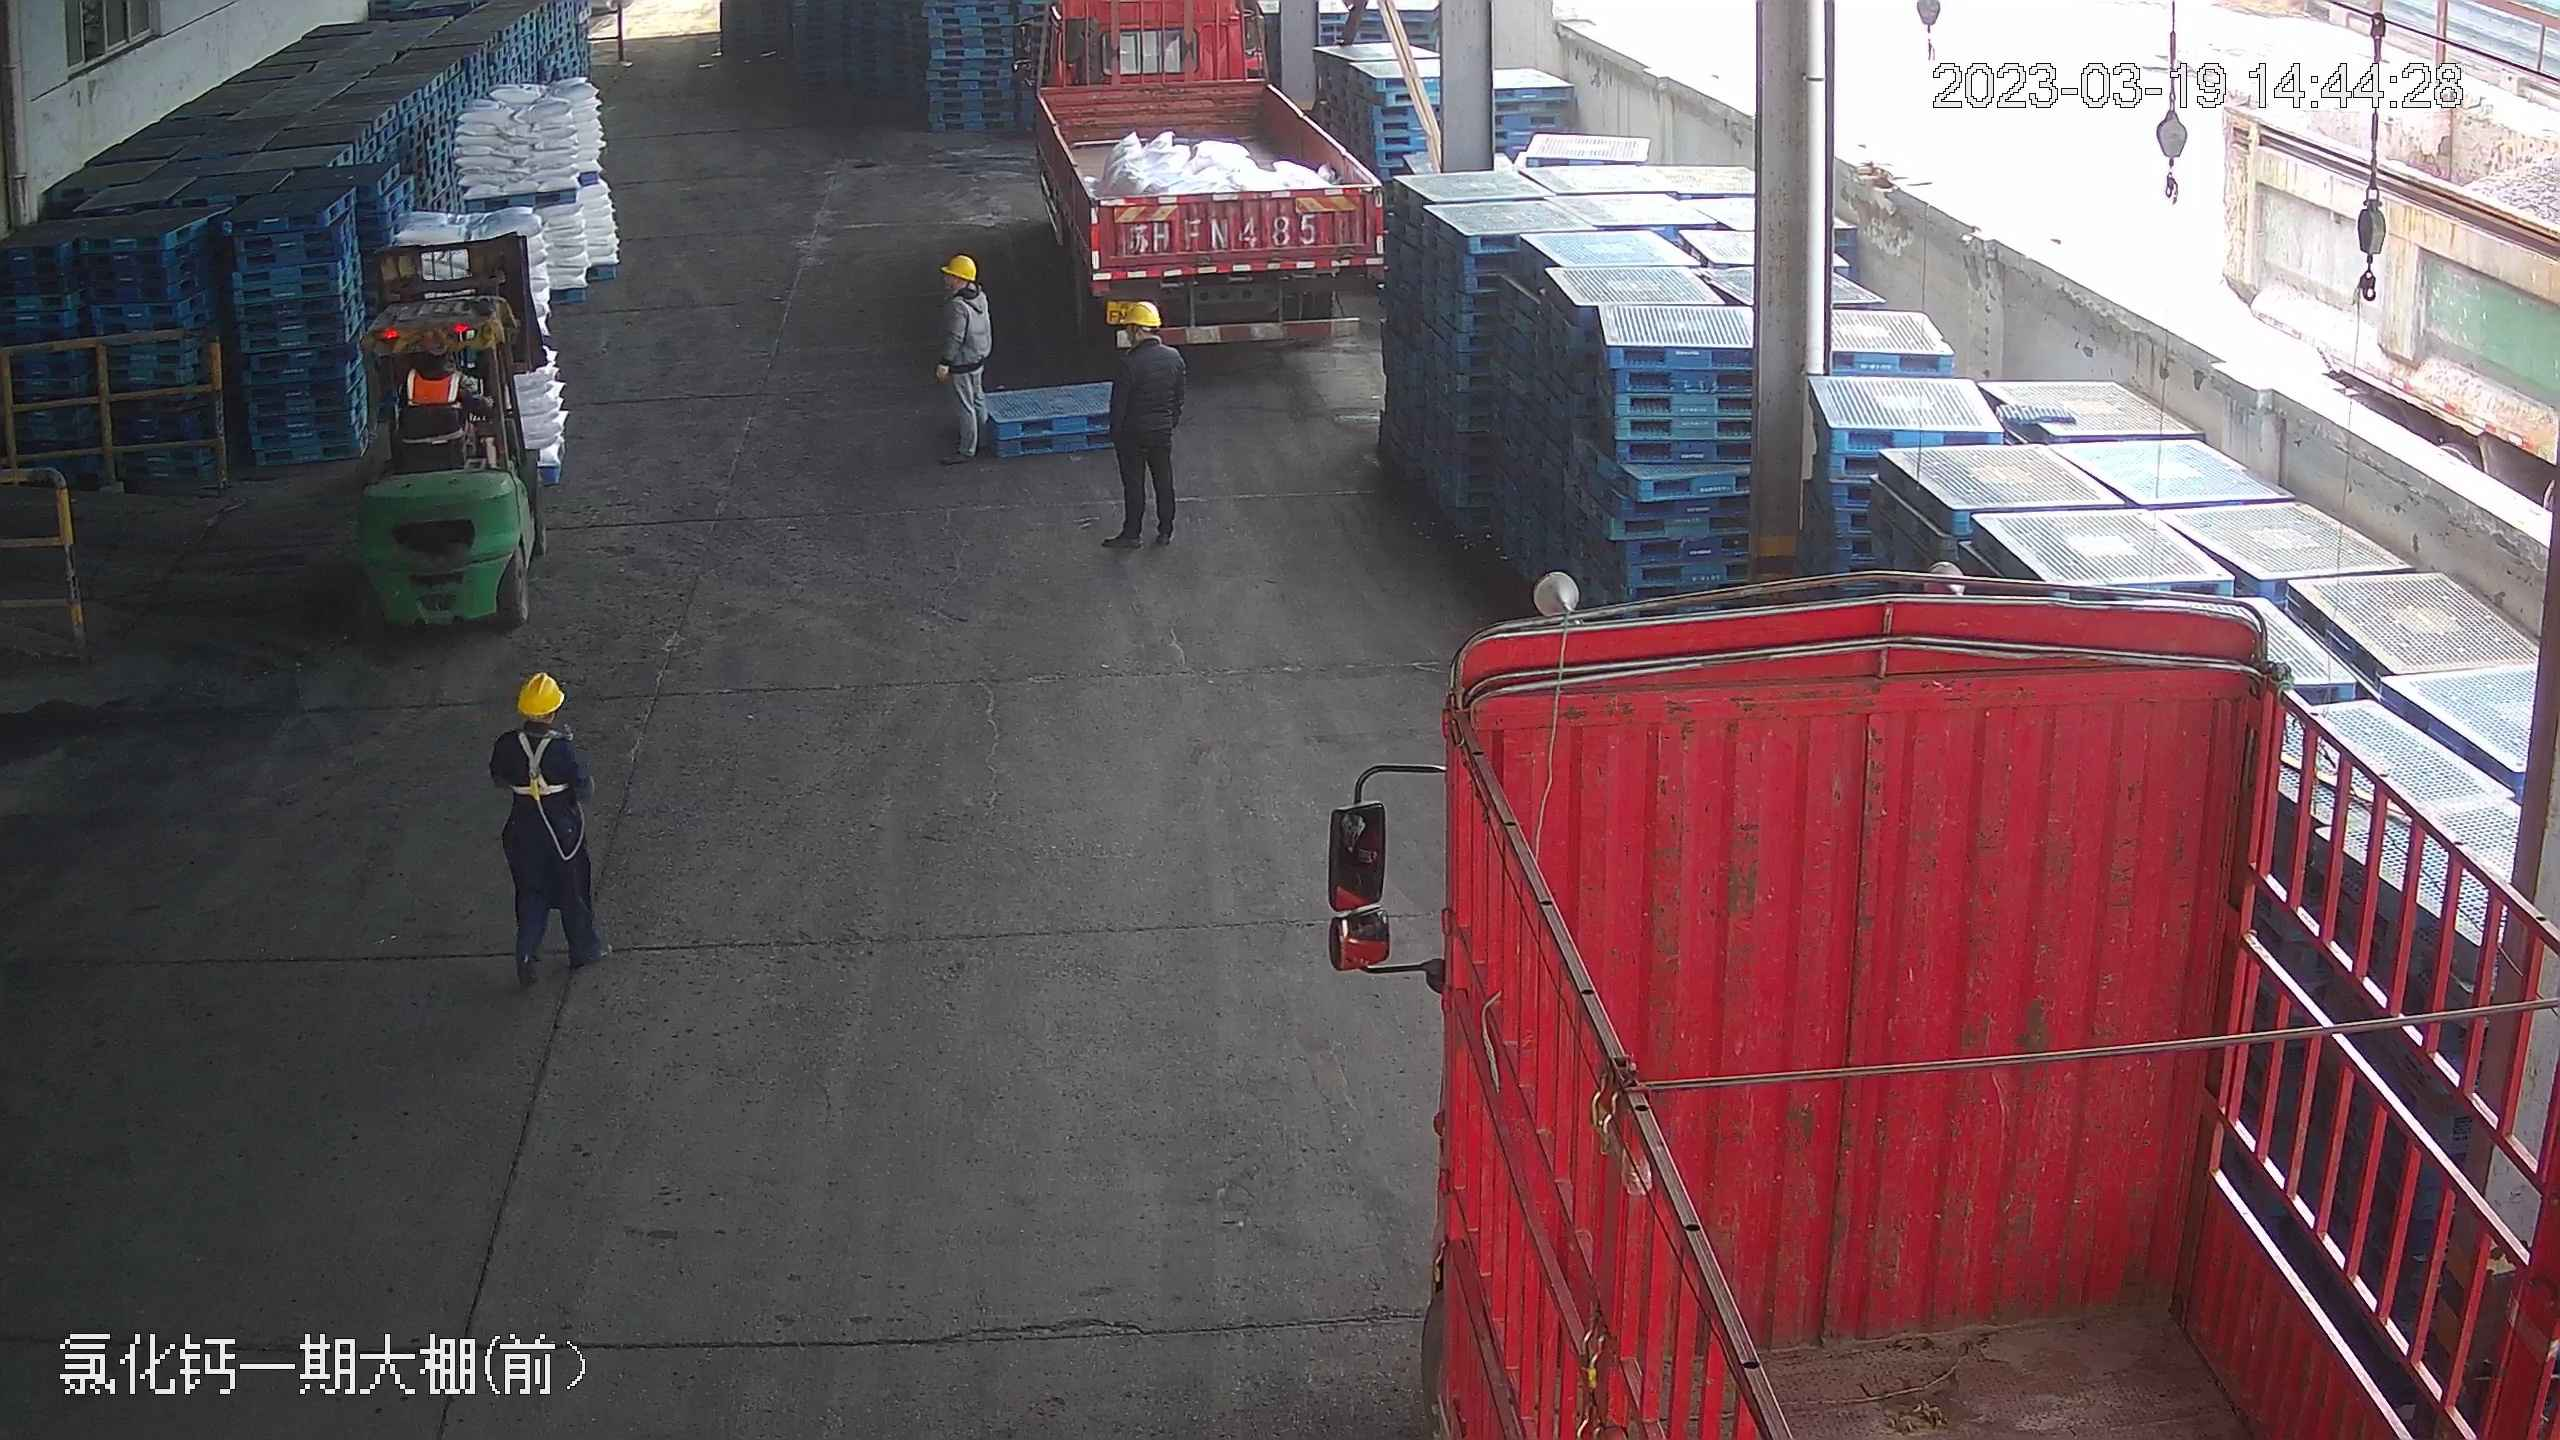belt: (503, 726, 572, 798)
head: (490, 670, 585, 769), (1105, 299, 1180, 377), (932, 252, 989, 320)
helmet: (514, 670, 564, 713), (1110, 298, 1159, 329), (941, 252, 979, 281)
people: (490, 668, 611, 985), (1098, 296, 1186, 550), (925, 249, 995, 466)
truck: (1373, 535, 2553, 1440), (1015, 1, 1387, 359)
